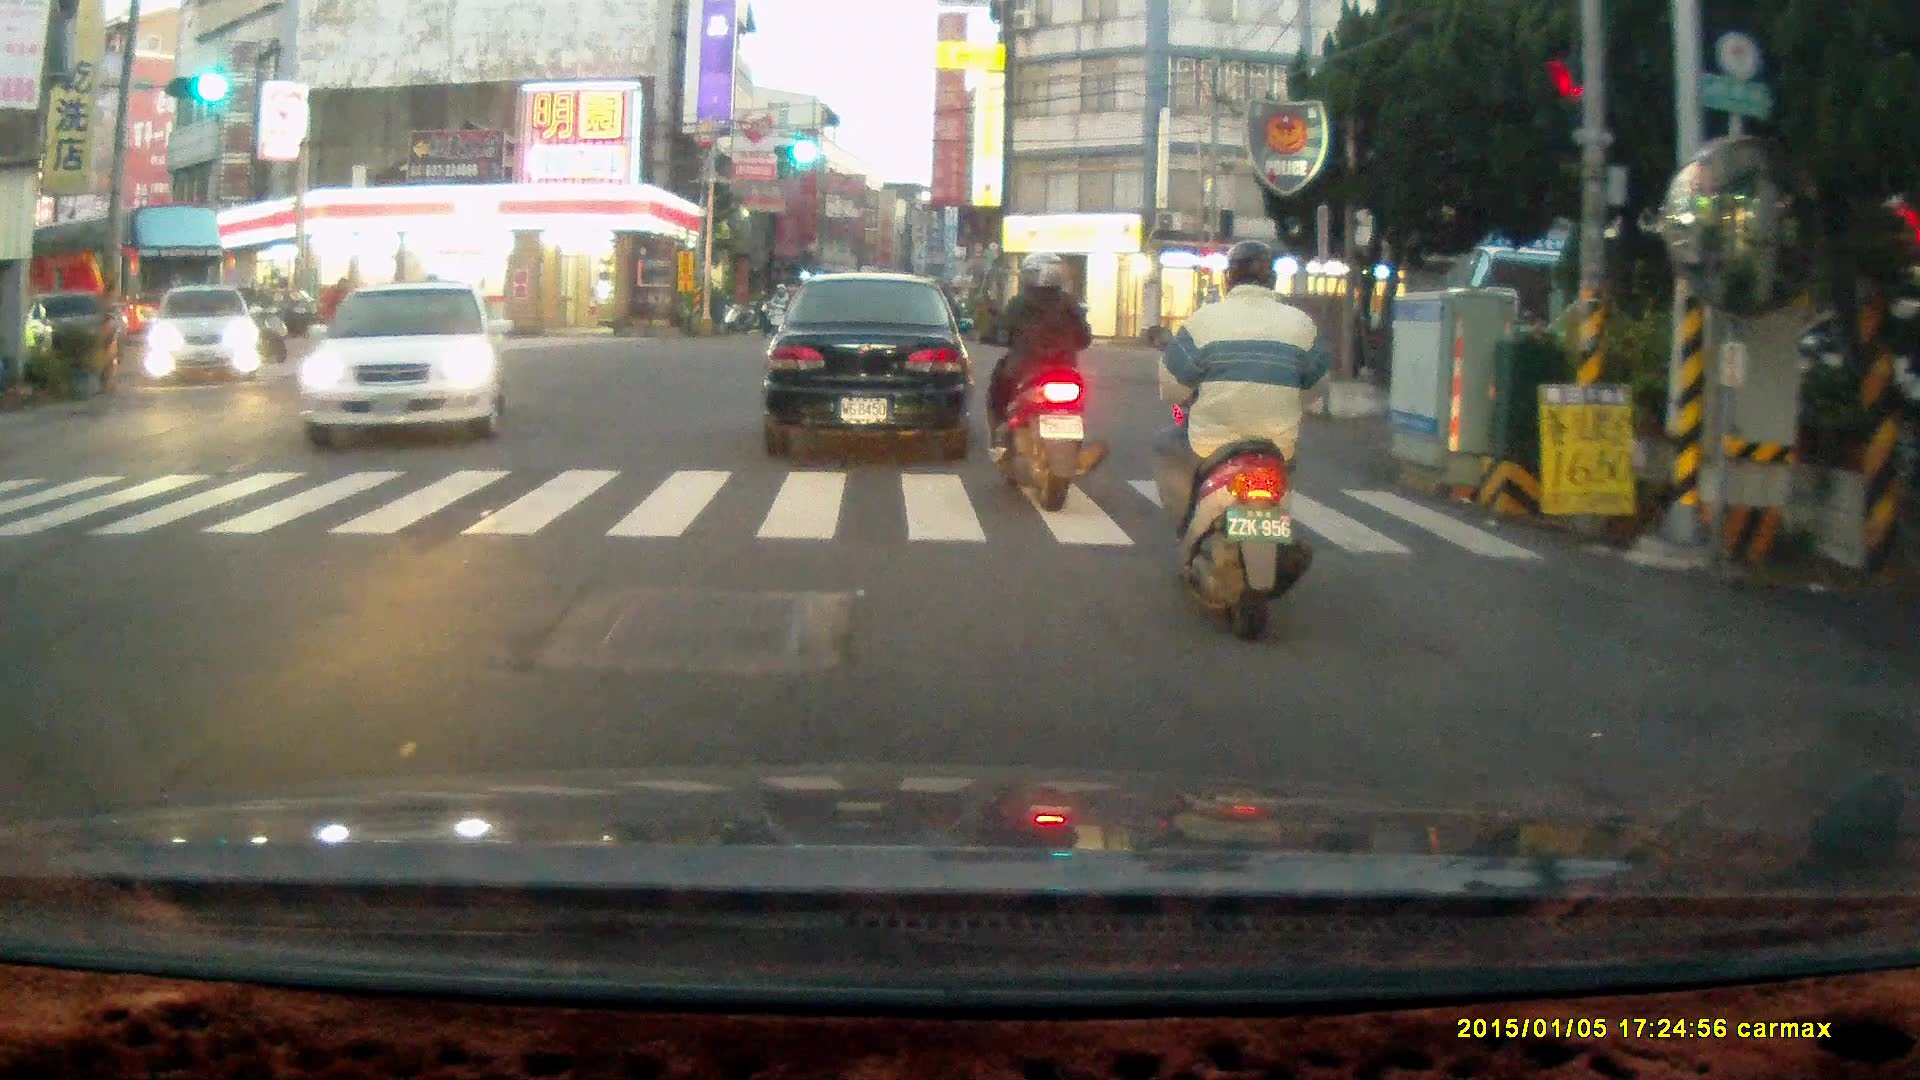rider: (1142, 238, 1327, 643), (971, 249, 1107, 513), (240, 279, 295, 367)
vehicle: (762, 272, 977, 464), (298, 282, 507, 450), (26, 205, 233, 354), (152, 287, 269, 397)
